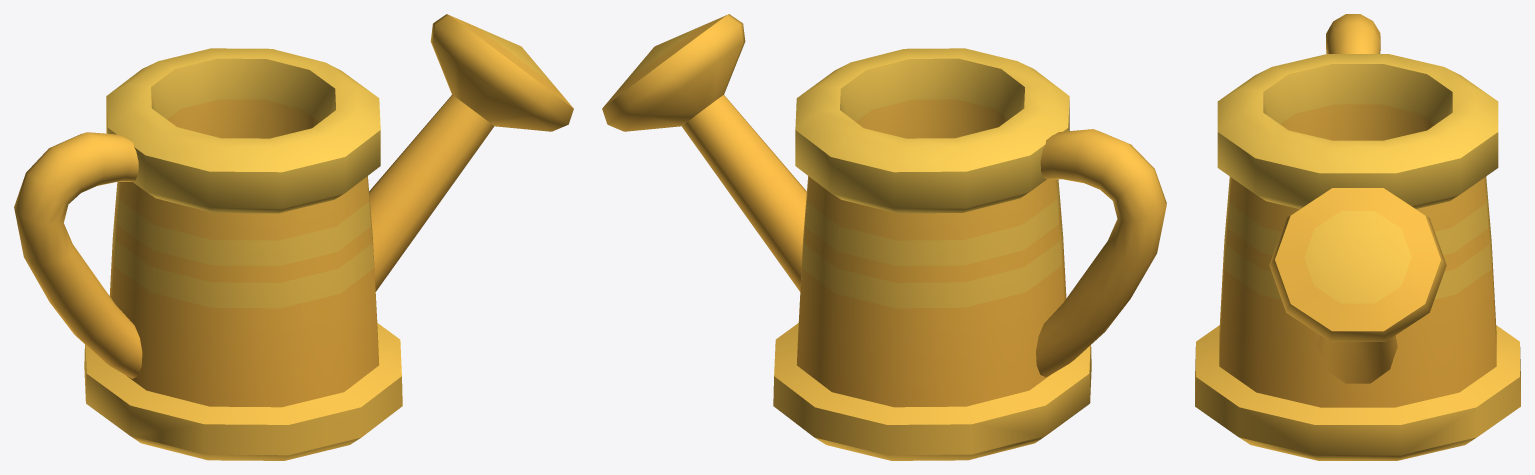
The model's file is watering-can.glb.
The picture shows the model from 3 angles, left to right: view 1: azimuth 30°, elevation 25°; view 2: azimuth 150°, elevation 25°; view 3: azimuth 270°, elevation 25°; orthographic projection.
Visible parts, largest first — view 1: watering_can_B; view 2: watering_can_B; view 3: watering_can_B.
Boxes of the visible parts, <box> form: watering_can_B: <box>14,14,573,460</box>; watering_can_B: <box>602,14,1166,460</box>; watering_can_B: <box>1195,14,1520,460</box>.
Size of the model in its own units: 1.15 by 0.65 by 0.6.
1 material, 1 textured.
